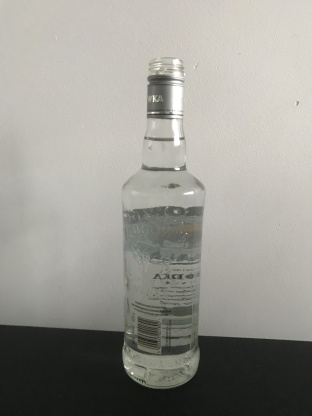nakretka: (144, 55, 186, 120)
